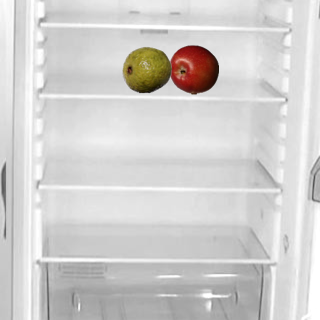Apple Braeburn: (168, 44, 218, 94)
Guava: (121, 44, 171, 94)
